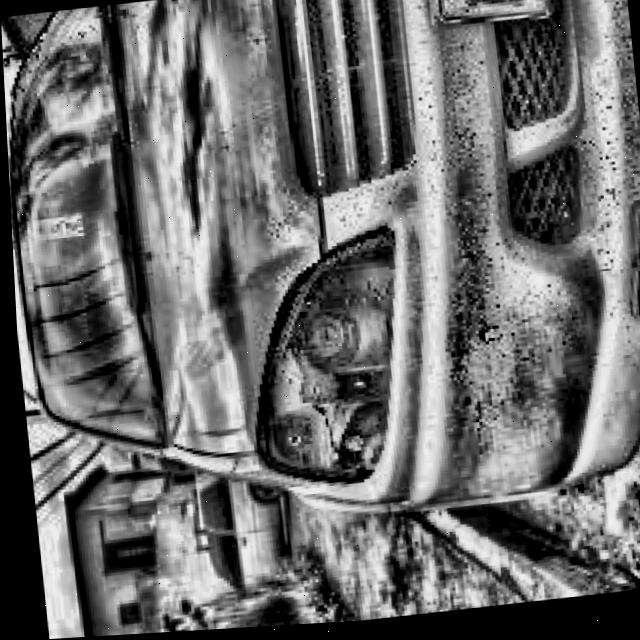head_lamp: (239, 222, 431, 485)
